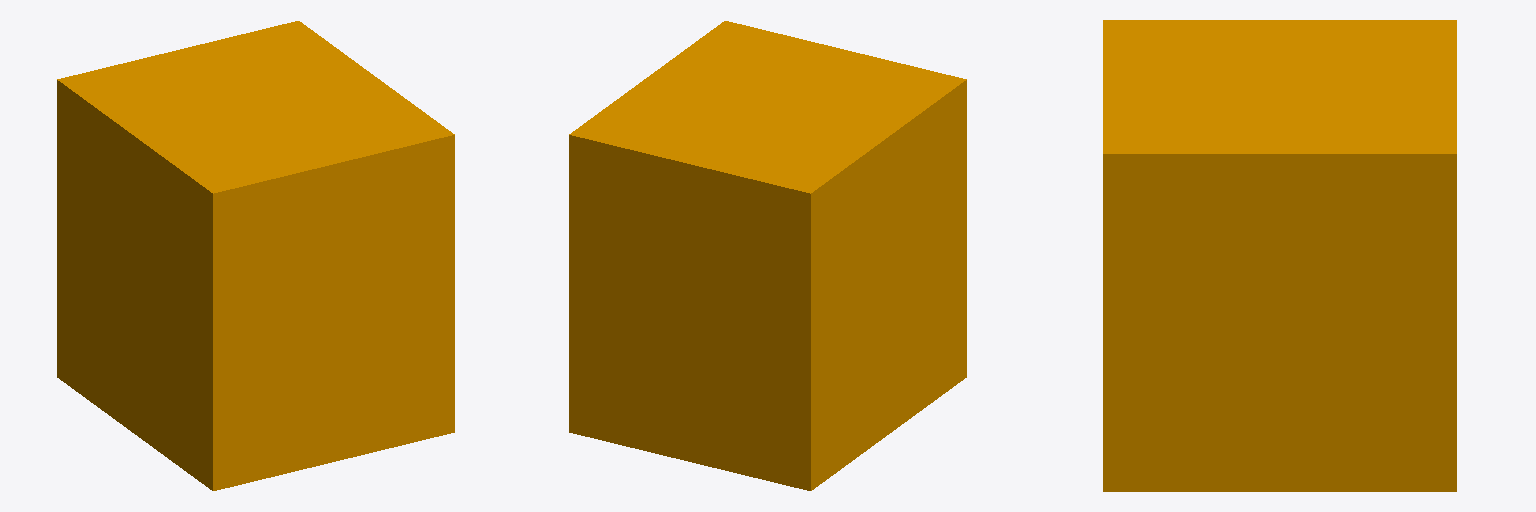
The robot description file, URDF, robot "object":
<robot name="object">
  <link name="object">
    <visual>
      <origin xyz="0 0 0" />
      <geometry>
        <box size="0.068 0.07600000000000001 0.08" />
      </geometry>
    </visual>

    <collision>
      <origin xyz="0 0 0" />
      <geometry>
        <box size="0.068 0.07600000000000001 0.08" />
      </geometry>
    </collision>

    <inertial>
      <mass value="0.05" />
      <inertia ixx="0.0001" ixy="0.0" ixz="0.0" iyy="0.0001" iyz="0.0" izz="0.0001" />
    </inertial>
  </link>
</robot>

--- Facts derived from the render (not from the file) ---
3 views of the same robot in one strip: view 1: azimuth 30°, elevation 25°; view 2: azimuth 150°, elevation 25°; view 3: azimuth 270°, elevation 25° (orthographic).
Robot: object — 1 links, 0 joints (none); root link object; default pose: every joint at zero.
Visible links, largest first — view 1: object; view 2: object; view 3: object.
Link boxes in pixels (x1,y1,x2,y2): object: (57, 21, 454, 490); object: (569, 21, 966, 490); object: (1103, 20, 1456, 491).
Bounding box of the posed robot: 0.068 × 0.076 × 0.08 m (x, y, z).
Geometry: primitives only (box / cylinder / sphere), no mesh files.